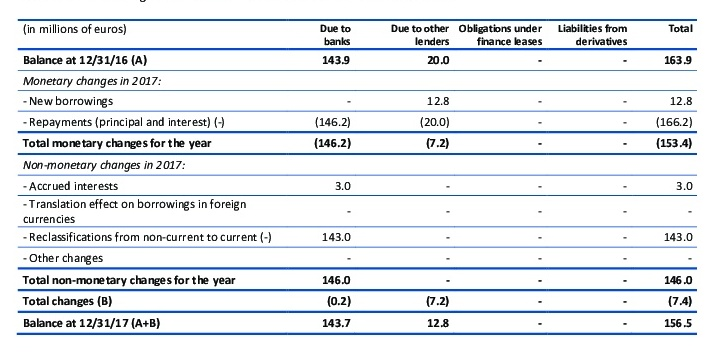table: (0, 0, 716, 352)
